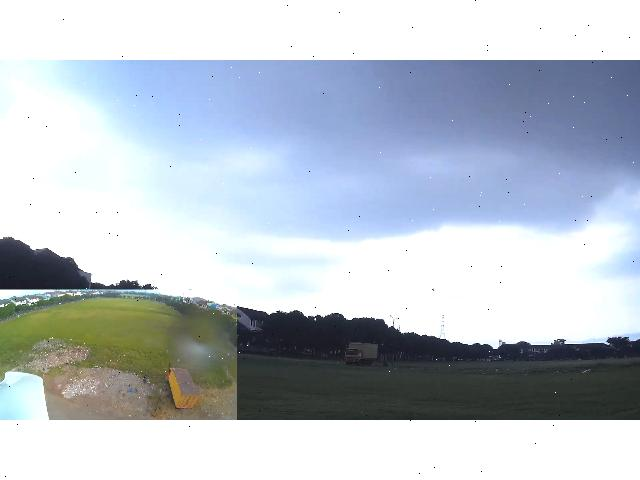Anti-Drone: (426, 285, 440, 293)
